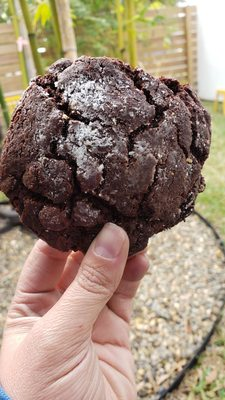salad: (0, 53, 212, 258)
sushi: (0, 55, 212, 256)
